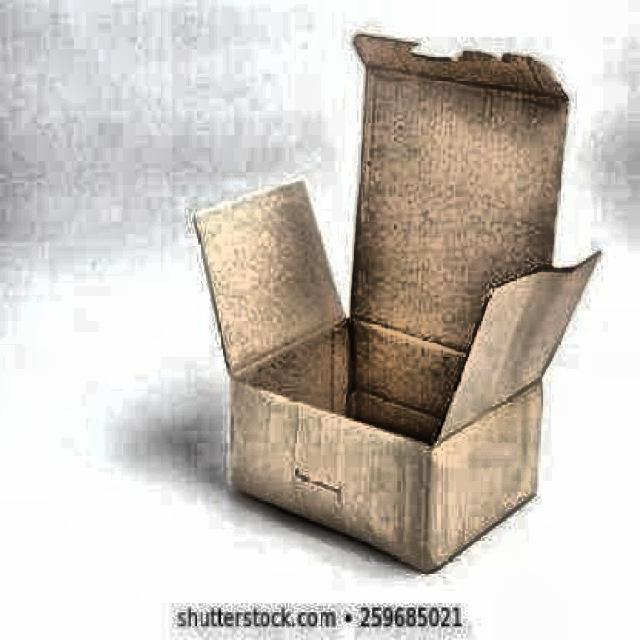Cardbox: (158, 17, 608, 564)
